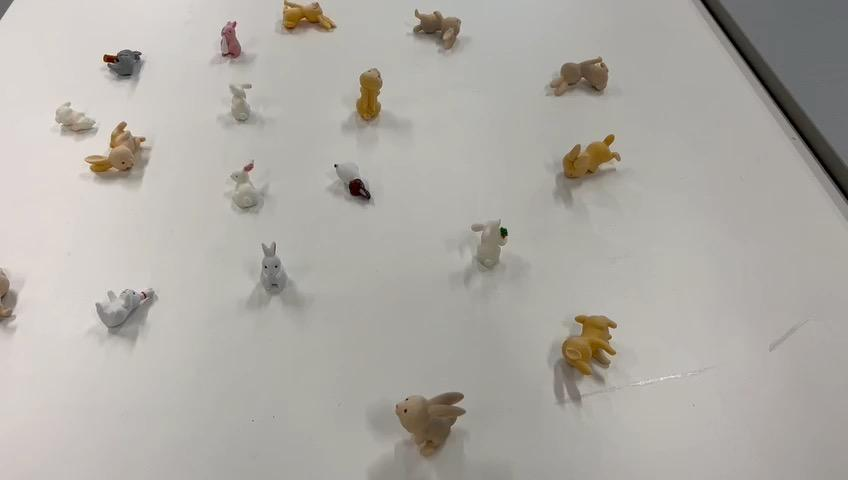pet: (389, 383, 474, 457), (79, 112, 155, 187), (562, 306, 617, 389), (558, 131, 626, 191), (90, 277, 160, 330), (544, 50, 612, 102), (217, 153, 272, 210), (407, 3, 469, 52), (327, 153, 383, 207), (470, 216, 513, 276), (94, 41, 148, 84), (278, 0, 338, 37), (346, 66, 385, 120), (219, 75, 256, 131), (54, 95, 99, 139), (256, 239, 289, 298), (208, 14, 244, 53)
